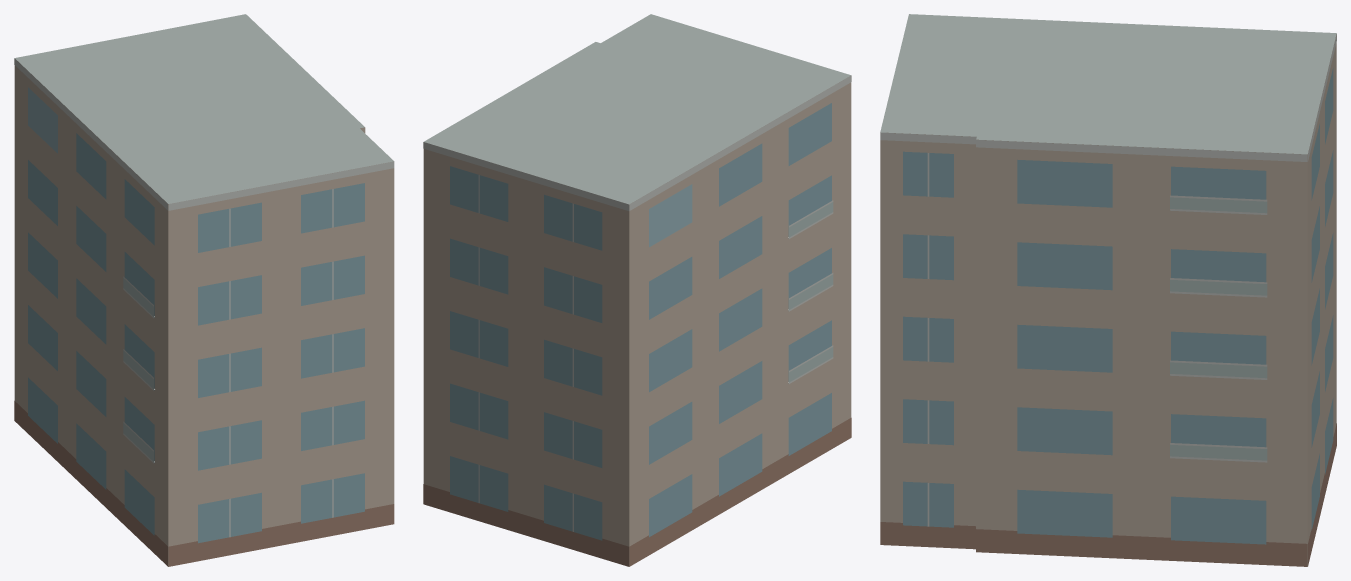
Rendered from survey-upis-32926883.glb.
3 renders of one model, left to right at view 1: azimuth 30°, elevation 25°; view 2: azimuth 150°, elevation 25°; view 3: azimuth 270°, elevation 25°, orthographic. The views are drawn at different scales.
Parts seen in each view (by area): view 1: survey-upis-32926883.tmp; view 2: survey-upis-32926883.tmp; view 3: survey-upis-32926883.tmp.
Boxes of the visible parts, x1=… form: survey-upis-32926883.tmp: x1=14, y1=14, x2=394, y2=566; survey-upis-32926883.tmp: x1=423, y1=14, x2=851, y2=566; survey-upis-32926883.tmp: x1=880, y1=14, x2=1336, y2=566.
Size of the model in its own units: 9.5 by 13 by 13.05.
